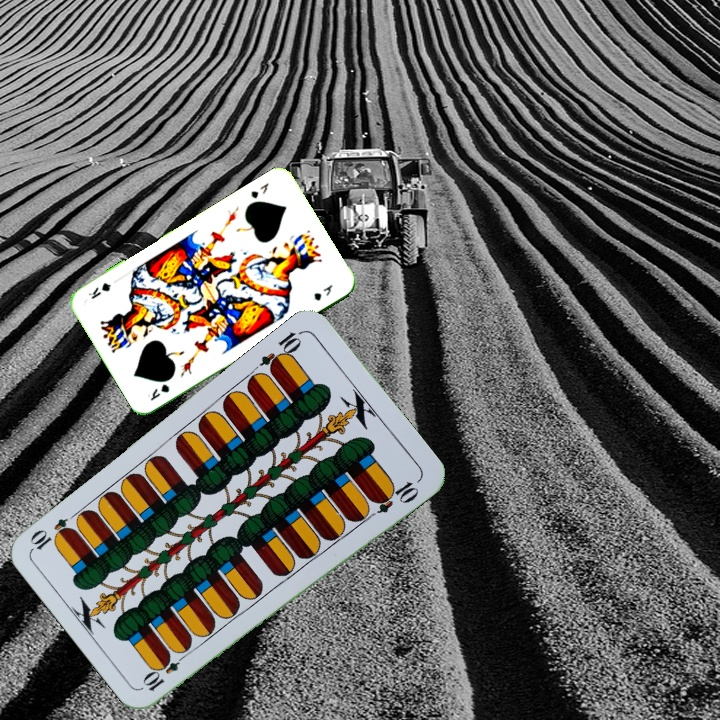E10: (256, 326, 306, 376), (139, 647, 191, 694)
GK: (143, 380, 172, 404), (247, 178, 272, 201)
